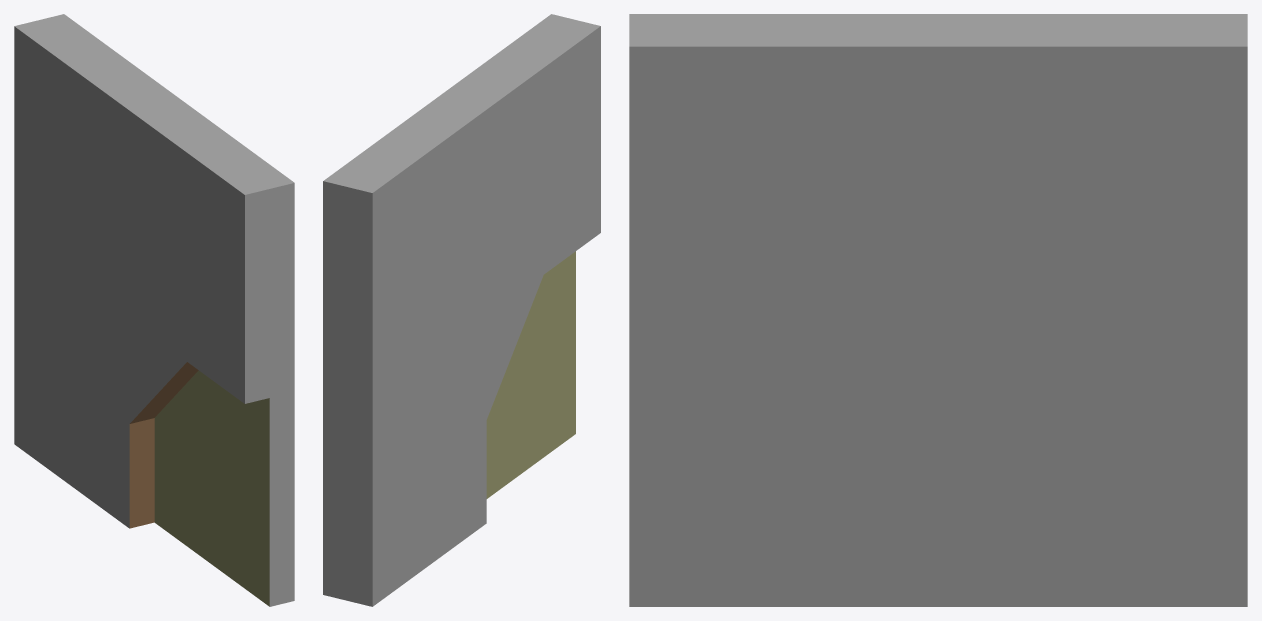
File: CM_BigCorner_Wall8x8.fbx
The picture shows the model from 3 angles, left to right: view 1: azimuth 30°, elevation 25°; view 2: azimuth 150°, elevation 25°; view 3: azimuth 270°, elevation 25°; orthographic projection. The views are drawn at different scales.
Parts seen in each view (by area): view 1: CM_BigCorner_Wall8x8; view 2: CM_BigCorner_Wall8x8; view 3: CM_BigCorner_Wall8x8.
Boxes of the visible parts, box(x1,y1,x2,y2) form: CM_BigCorner_Wall8x8: box(14, 14, 294, 606); CM_BigCorner_Wall8x8: box(323, 14, 600, 606); CM_BigCorner_Wall8x8: box(629, 14, 1247, 606).
Bounding box in the file's own units: 100 × 800 × 800.
